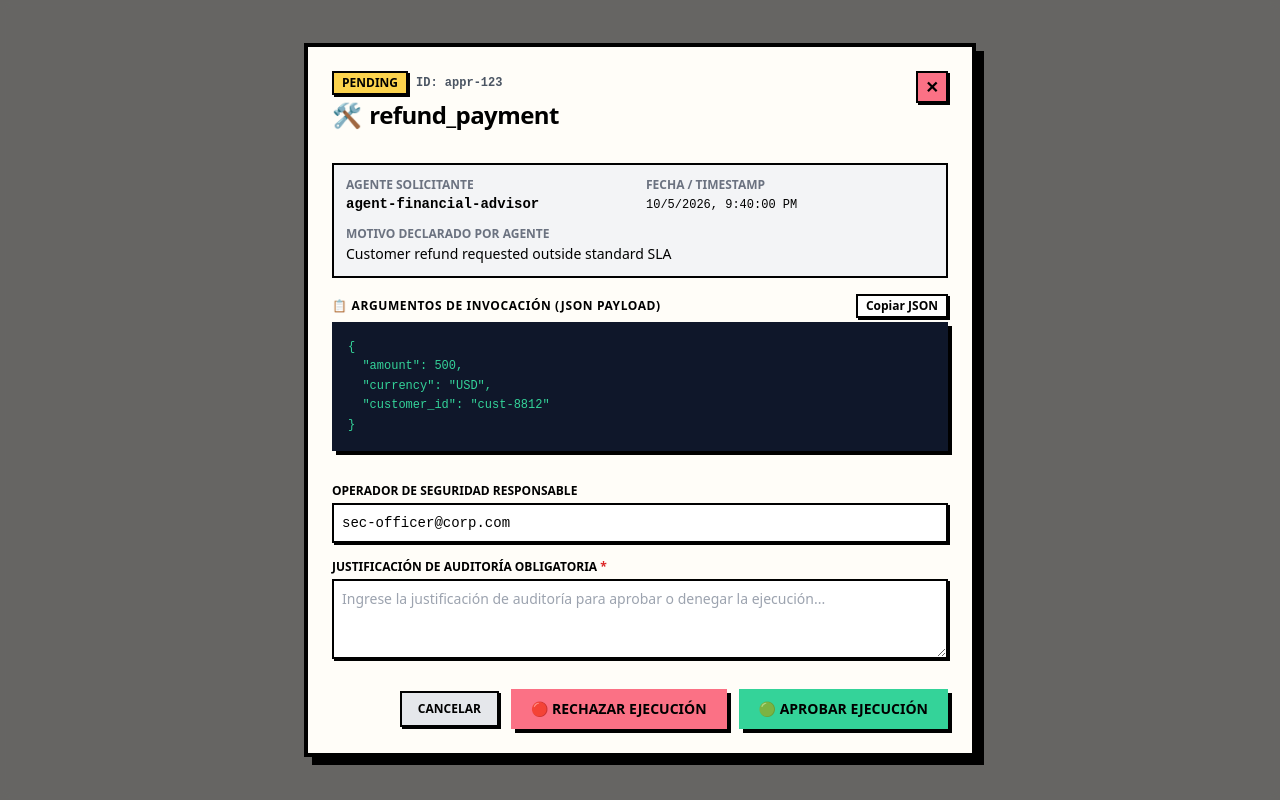
Test: ToolArgumentsInspectorModal Component › disables or warns when attempting to approve without audit justification
This screenshot has width=1280, height=800.
What coordinates should you click on to do the following:
click the button "🟢 Aprobar Ejecución"
I would click on:
 (843, 709)
Its box is x1=738 y1=689 x2=948 y2=729.
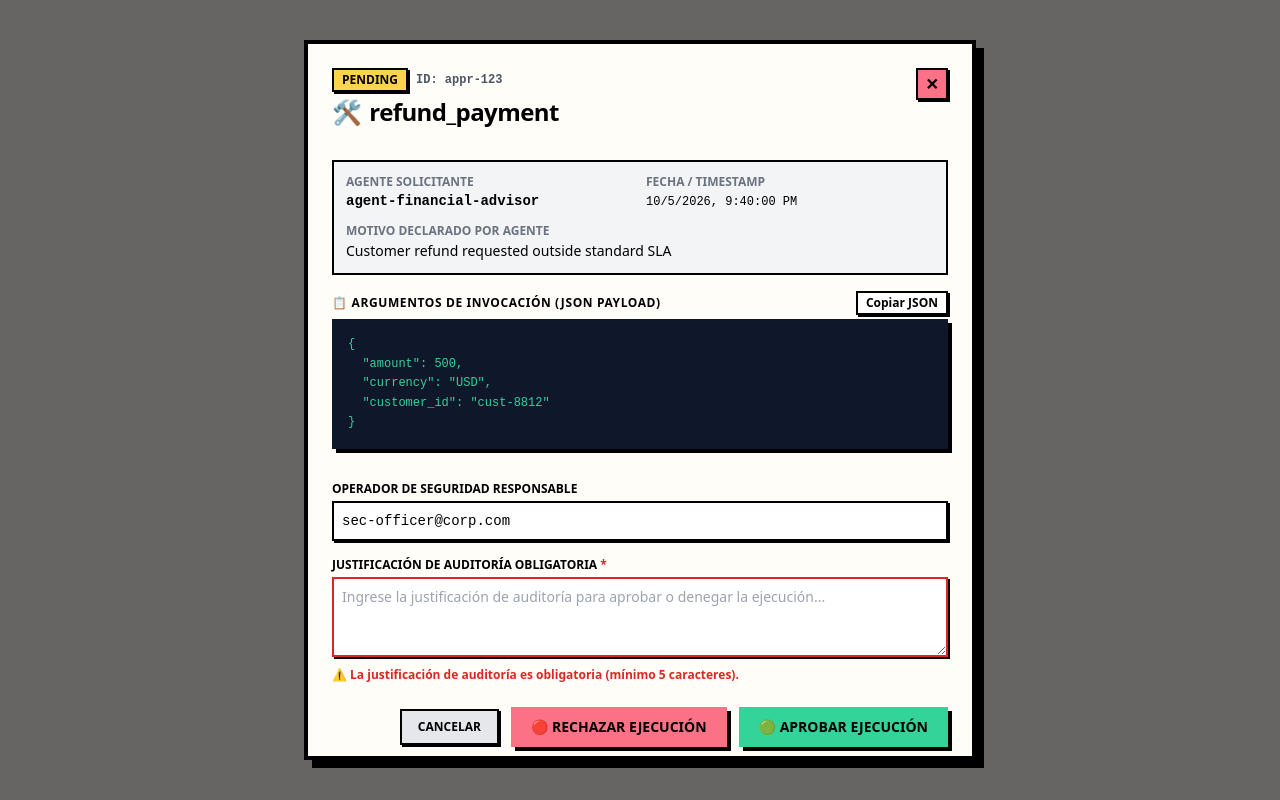
expect the text "La justificación de auditoría es obligatoria" is shown: met, box x1=350 y1=666 x2=739 y2=682
